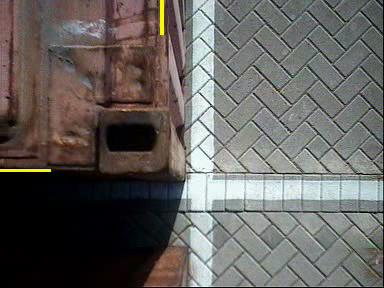groundmarker_2: (190, 33, 223, 94)
